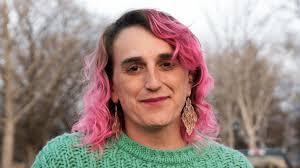person: (78, 5, 225, 150)
